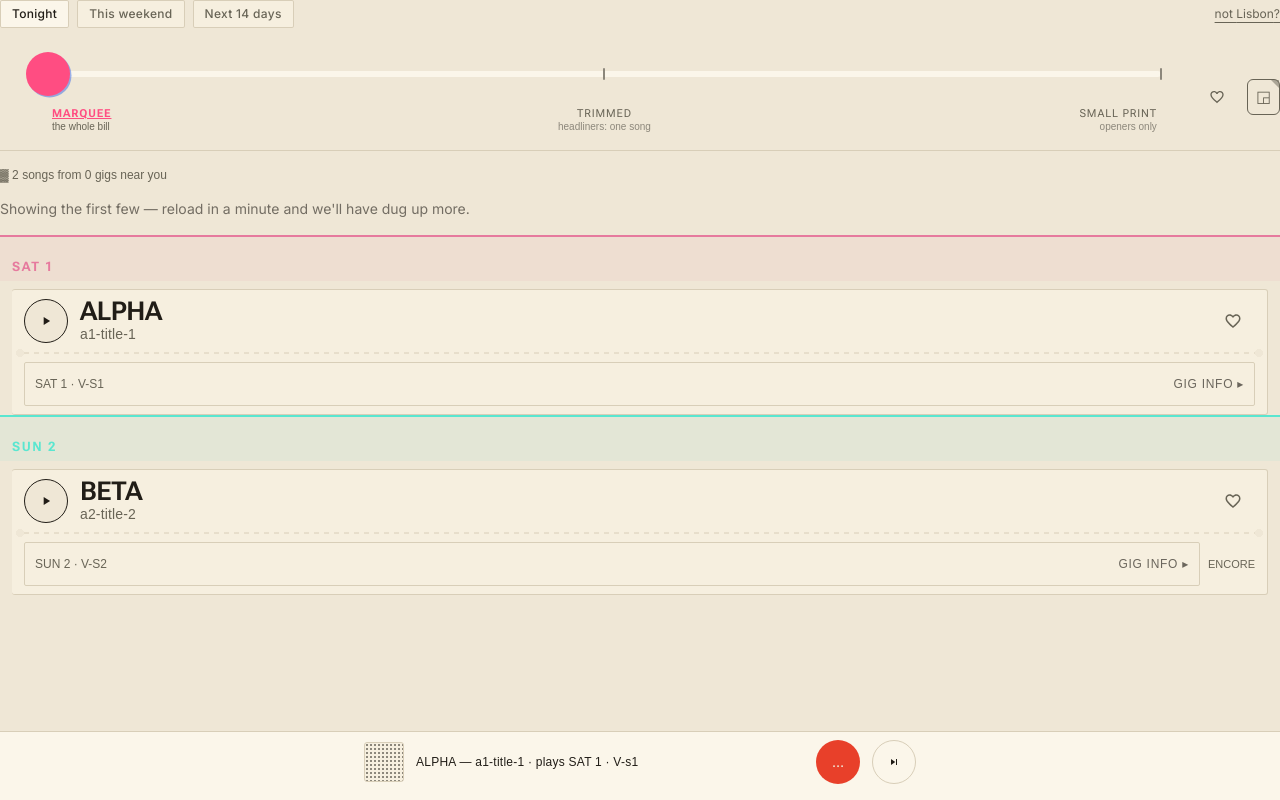
Test: PlaylistScreen — the Hearted shelf (step 3) › global Space/N shortcuts go deaf while the shelf is open — nothing drives the radio behind the modal
Click the button named "Heart ALPHA — a1-title-1" at (1233, 320), box [1211,298,1255,342]
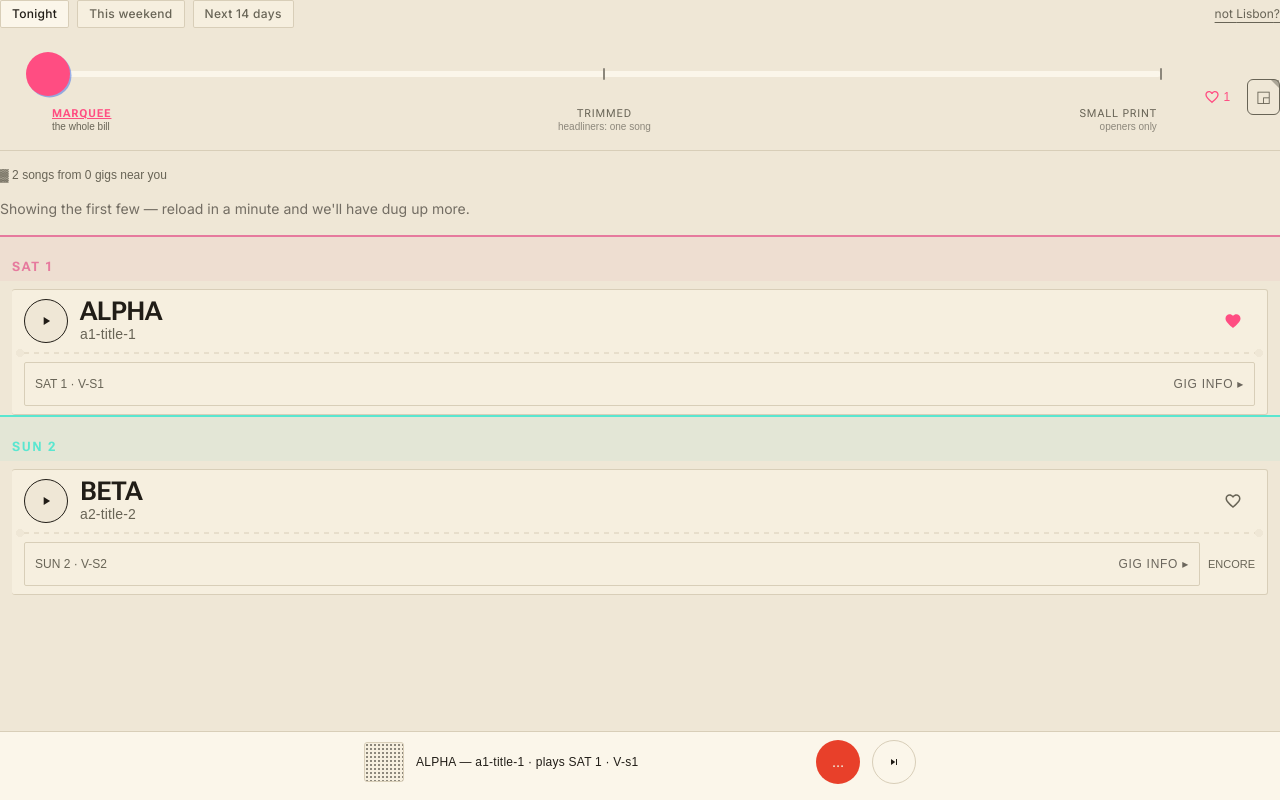
Click the button named "Your hearted songs (1)" at (1217, 97), box [1195,75,1239,119]
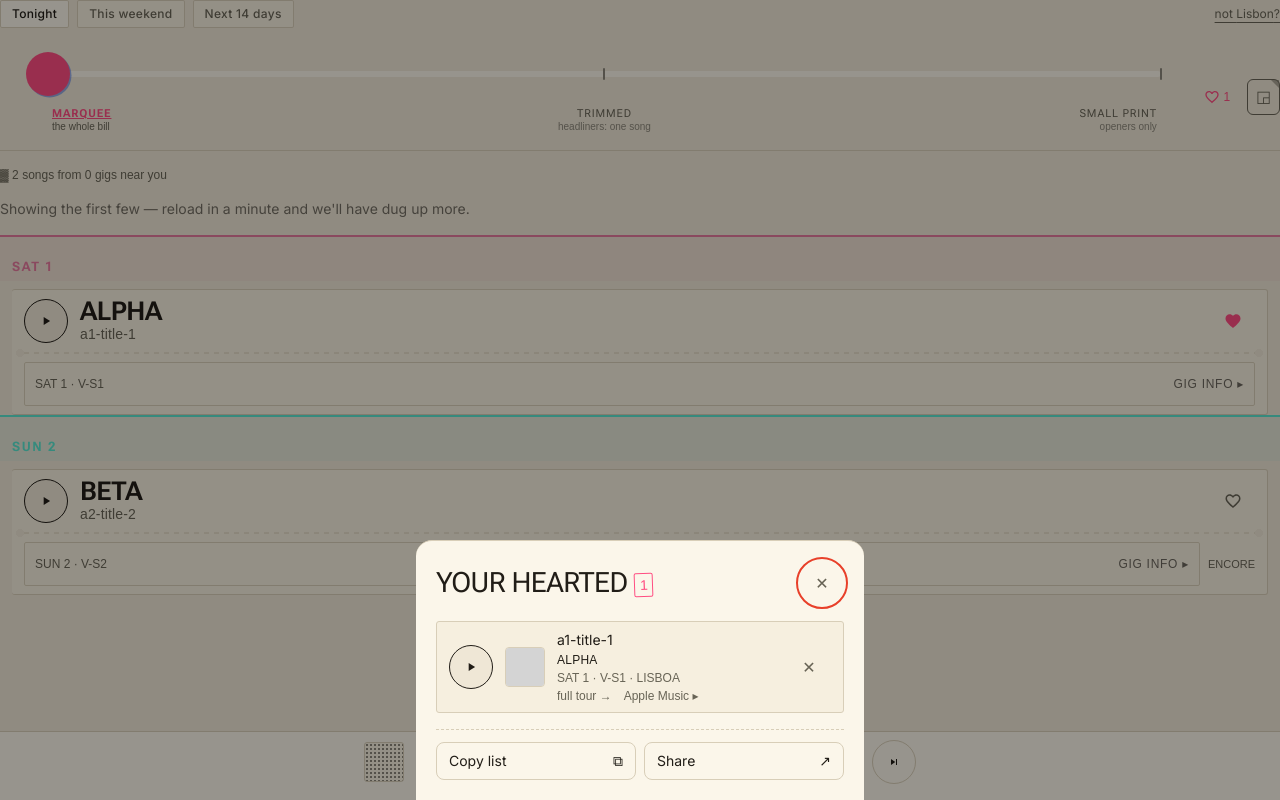
Press Space
Press n
Press ArrowRight
Click the button named "Close" at (822, 583), box [800,561,844,605]
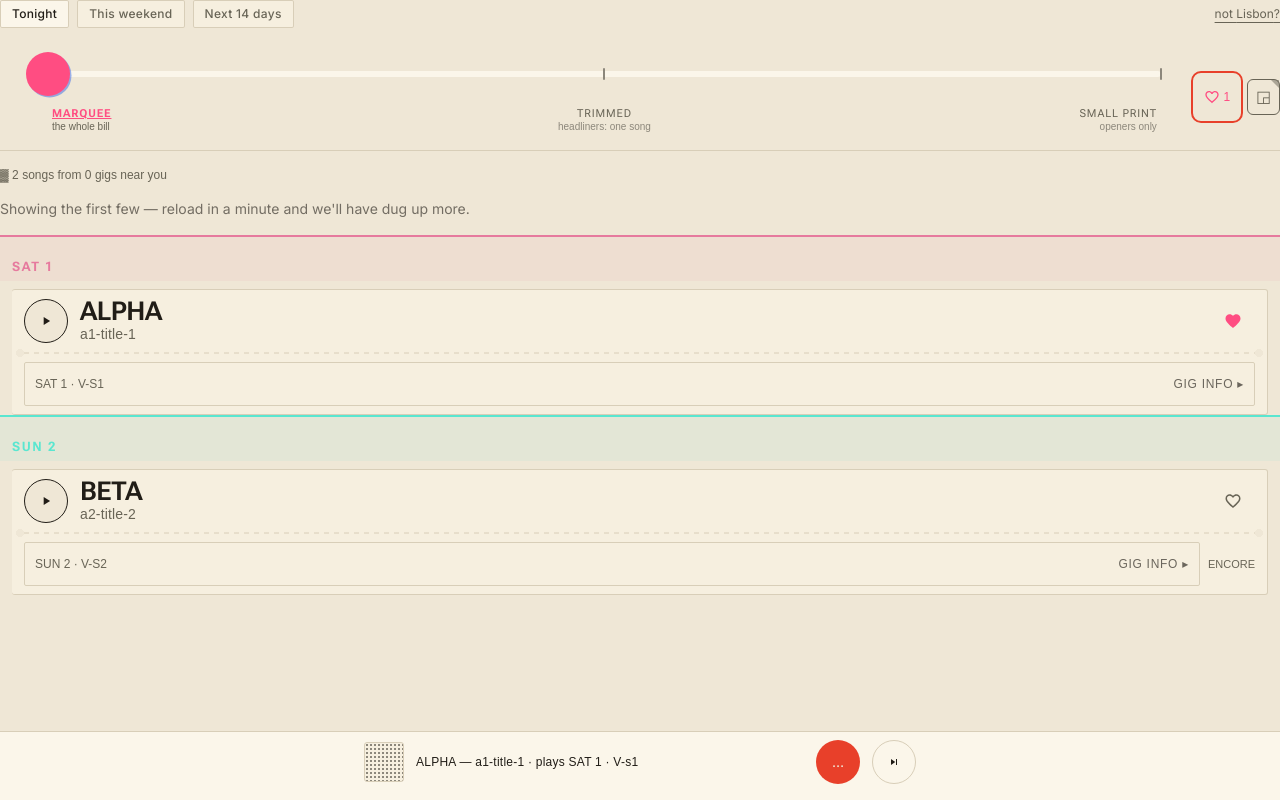
Press Space
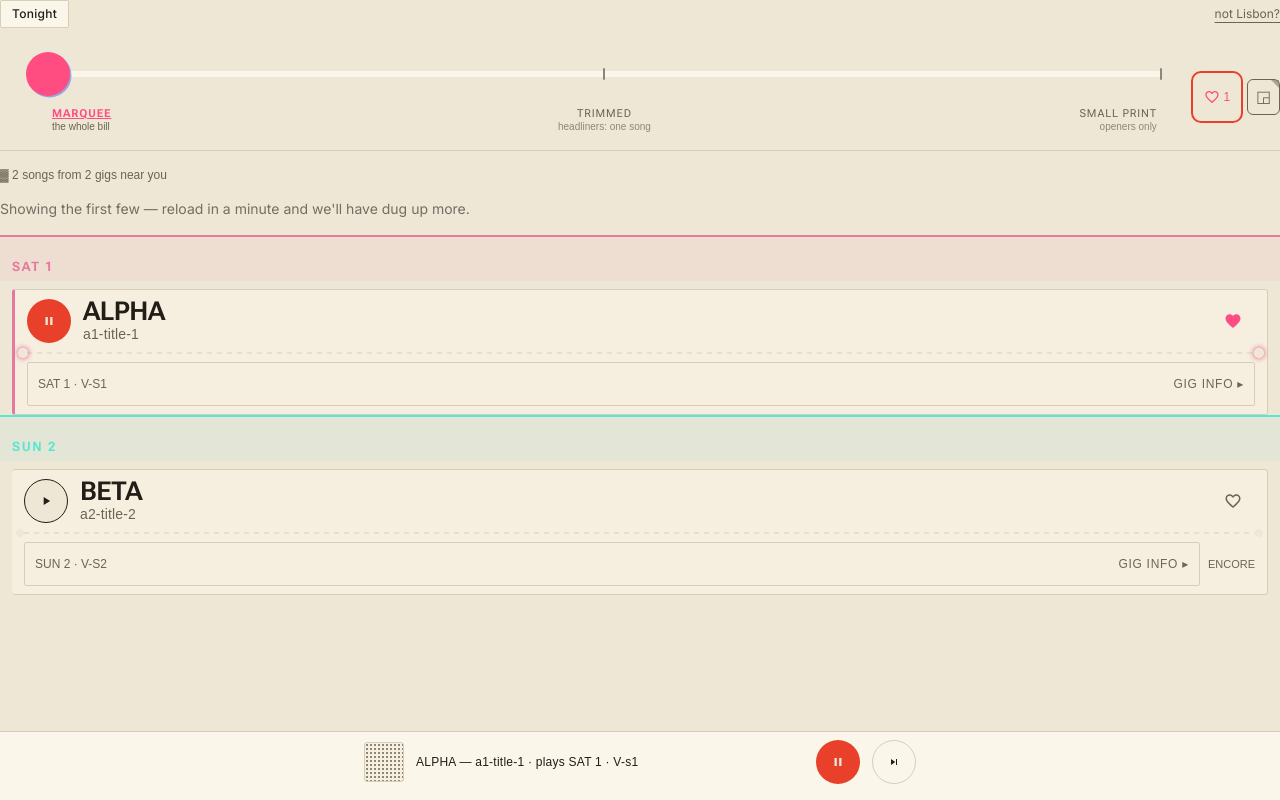
Now the button named "Pause" is shown, box [816,740,860,784]
